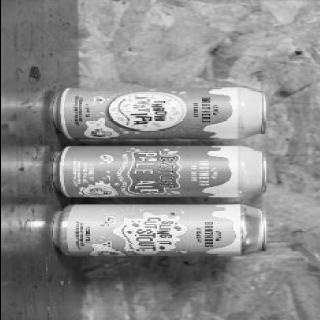alumunium_can: (51, 203, 270, 258), (49, 86, 268, 140), (50, 144, 268, 198)
